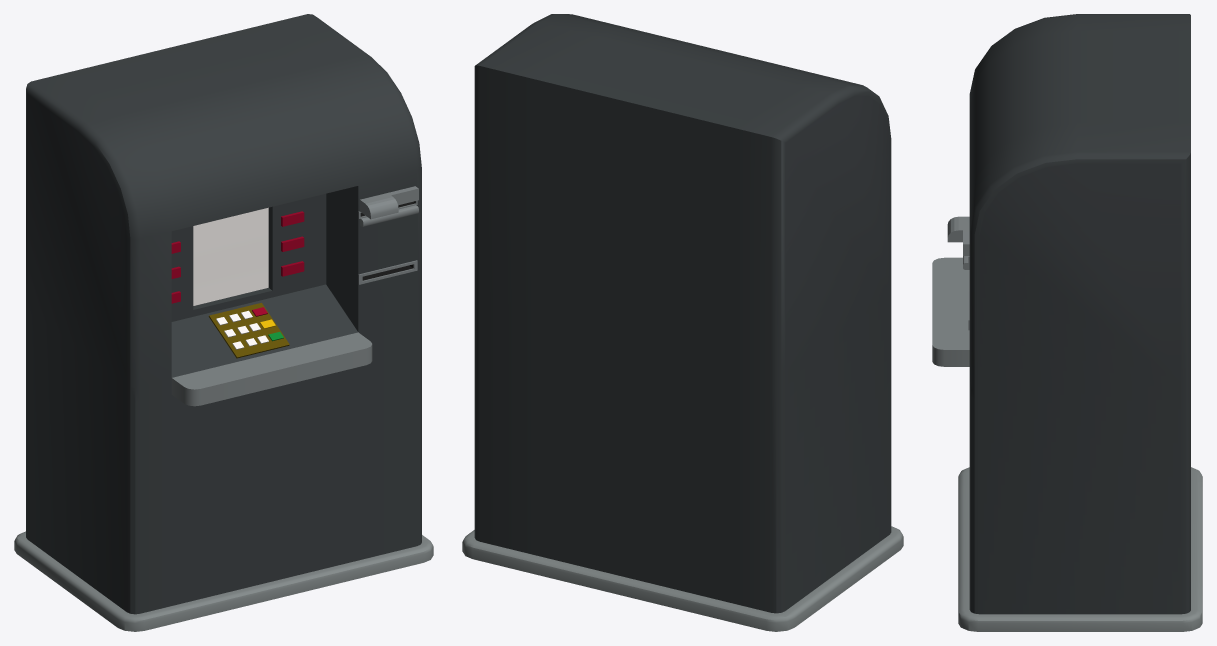
The model's file is atm-A.fbx.
3 views of the same model, side by side, from view 1: azimuth 30°, elevation 25°; view 2: azimuth 150°, elevation 25°; view 3: azimuth 270°, elevation 25° (orthographic). The views are drawn at different scales.
Visible parts, largest first — view 1: 1. atm-A; view 2: 1. atm-A; view 3: 1. atm-A.
Boxes of the visible parts, x1=… form: 1. atm-A: x1=14, y1=14, x2=433, y2=631; 1. atm-A: x1=462, y1=14, x2=903, y2=631; 1. atm-A: x1=932, y1=14, x2=1202, y2=631.
Size of the model in its own units: 176 by 250 by 130.
1 material, 1 textured.
